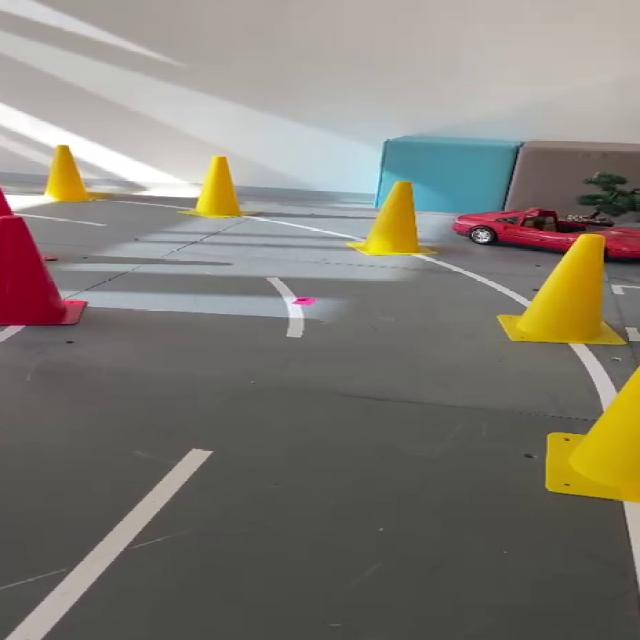Cone-red: (0, 188, 87, 326)
Cones-yellow: (498, 234, 625, 345), (546, 368, 639, 502), (546, 368, 639, 502), (350, 182, 429, 255), (46, 145, 105, 202), (188, 156, 241, 218)
